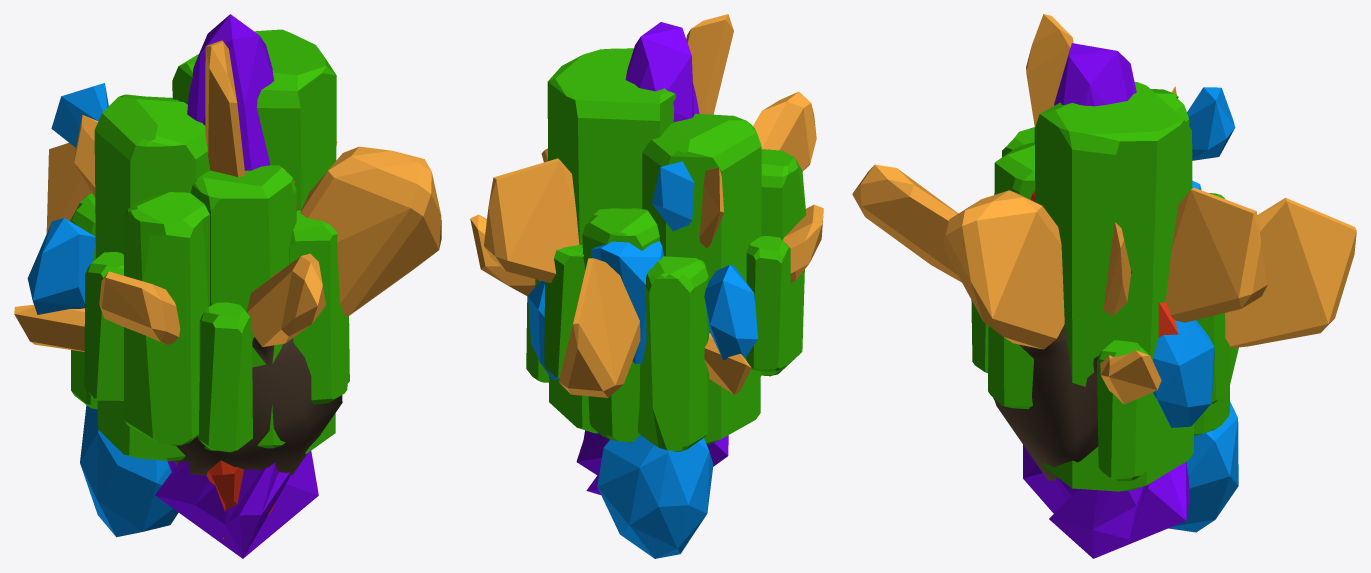
Rendered from gemstones.fbx.
The picture shows the model from 3 angles, left to right: view 1: azimuth 30°, elevation 25°; view 2: azimuth 150°, elevation 25°; view 3: azimuth 270°, elevation 25°; orthographic projection. The views are drawn at different scales.
Parts seen in each view (by area): view 1: Cylinder.008, Sphere, Suzanne, Sphere.003, Cylinder; view 2: Cylinder.008, Sphere, Sphere.003, Suzanne; view 3: Sphere, Cylinder.008, Suzanne, Sphere.003.
Boxes of the visible parts, x1,y1,x2,y2 form: Cylinder.008: [70, 29, 349, 461]; Sphere: [14, 40, 441, 475]; Suzanne: [155, 14, 318, 558]; Sphere.003: [27, 83, 178, 537]; Cylinder: [206, 168, 297, 539]; Cylinder.008: [526, 48, 806, 451]; Sphere: [470, 14, 823, 397]; Sphere.003: [528, 161, 757, 558]; Suzanne: [576, 22, 728, 494]; Sphere: [852, 14, 1356, 480]; Cylinder.008: [971, 82, 1238, 491]; Suzanne: [1023, 43, 1189, 558]; Sphere.003: [1153, 87, 1238, 532].
Bounding box in the file's own units: 349 × 526 × 464.
